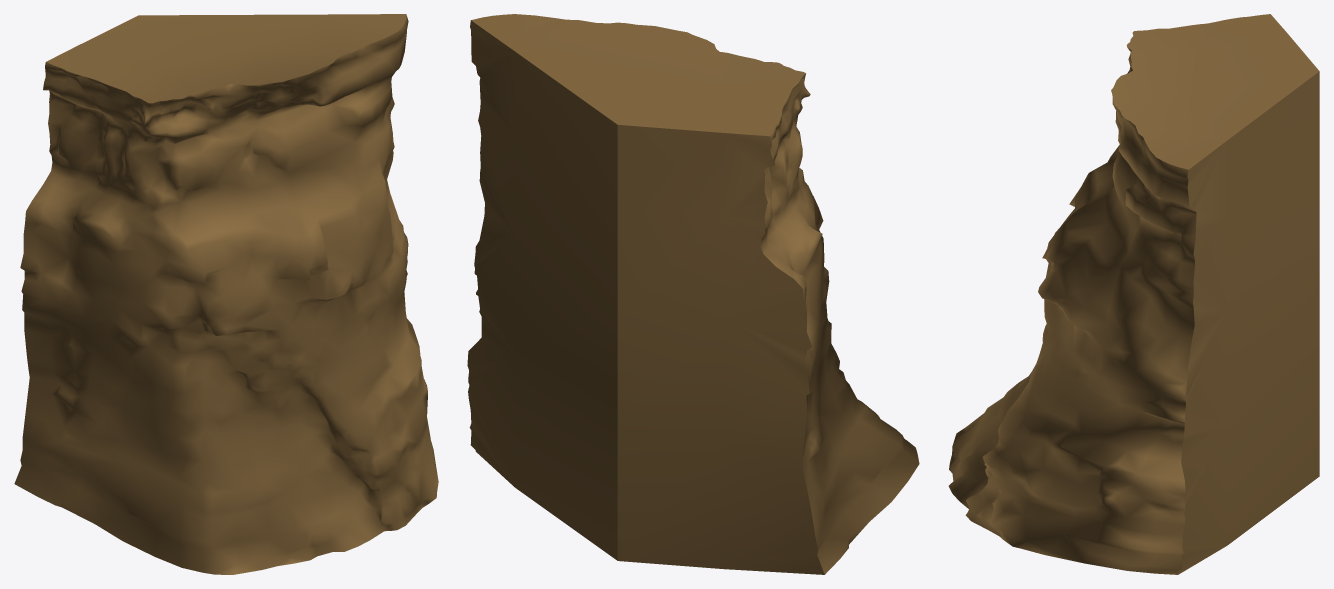
The model's file is MSH_Rocks_Cliff_04_b.FBX.
3 views of the same model, side by side, from view 1: azimuth 30°, elevation 25°; view 2: azimuth 150°, elevation 25°; view 3: azimuth 270°, elevation 25° (orthographic). The views are drawn at different scales.
Parts seen in each view (by area): view 1: MESH_LOD0, CAP_LOD0; view 2: CAP_LOD0, MESH_LOD0; view 3: CAP_LOD0, MESH_LOD0.
Part boxes in pixels (x1=…): MESH_LOD0: x1=14, y1=14, x2=438, y2=574; CAP_LOD0: x1=46, y1=14, x2=406, y2=103; CAP_LOD0: x1=467, y1=14, x2=824, y2=574; MESH_LOD0: x1=760, y1=74, x2=919, y2=574; CAP_LOD0: x1=1111, y1=14, x2=1319, y2=574; MESH_LOD0: x1=948, y1=47, x2=1196, y2=574.
Size of what is drawn, in the model's own units: 623 by 661 by 549.
